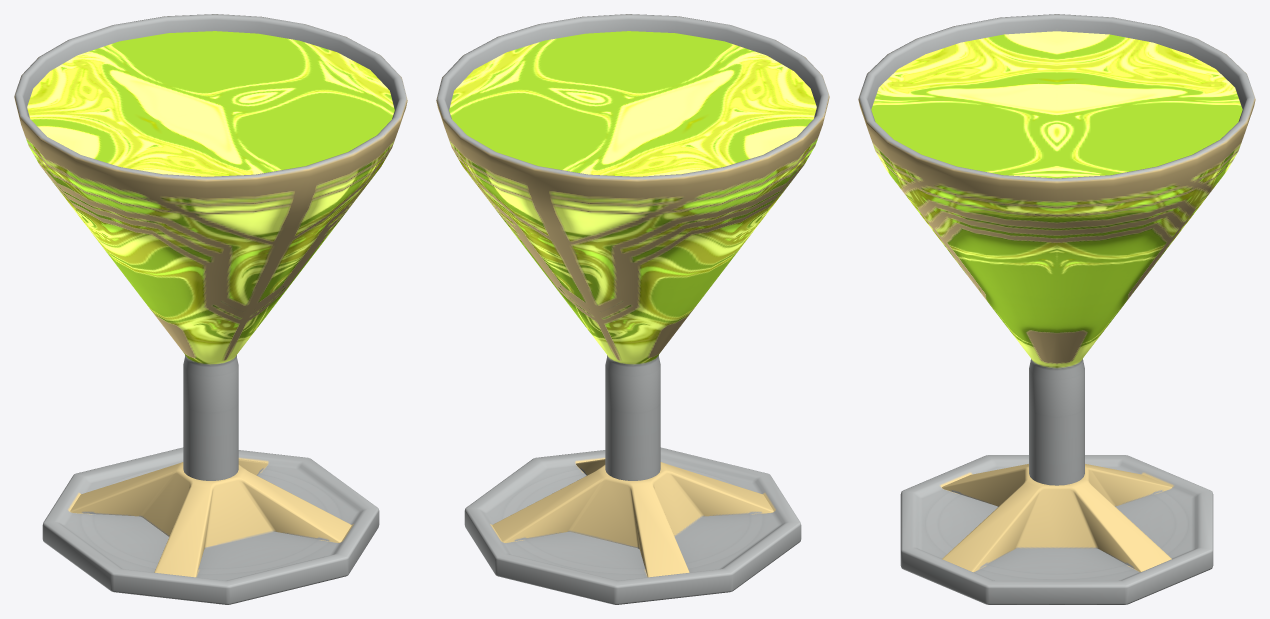
File: BarCocktails02_3.FBX
3 renders of one model, left to right at view 1: azimuth 30°, elevation 25°; view 2: azimuth 150°, elevation 25°; view 3: azimuth 270°, elevation 25°, orthographic.
Parts seen in each view (by area): view 1: BarCocktails02_3; view 2: BarCocktails02_3; view 3: BarCocktails02_3.
Part boxes in pixels (left/top/right/bottom): BarCocktails02_3: left=14, top=14, right=407, bottom=604; BarCocktails02_3: left=436, top=14, right=829, bottom=604; BarCocktails02_3: left=858, top=14, right=1255, bottom=604.
Size of what is drawn, in the model's own units: 0.1139 by 0.1402 by 0.1139.
